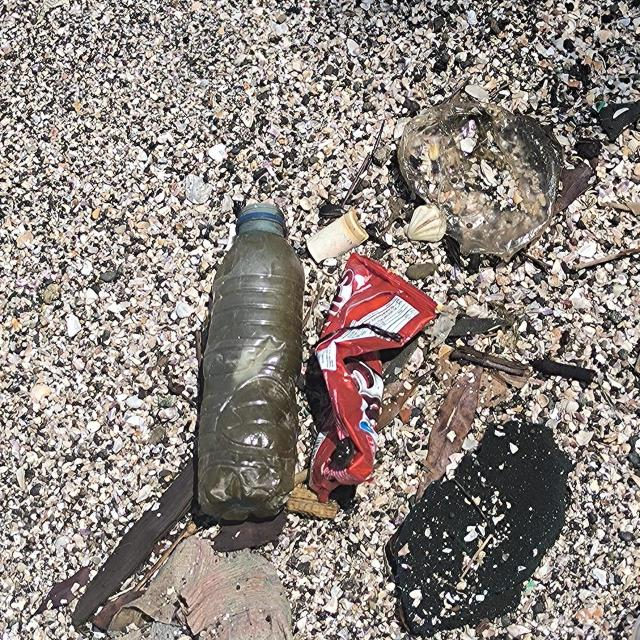plastic_waste: (200, 205, 310, 525), (309, 258, 443, 504)
